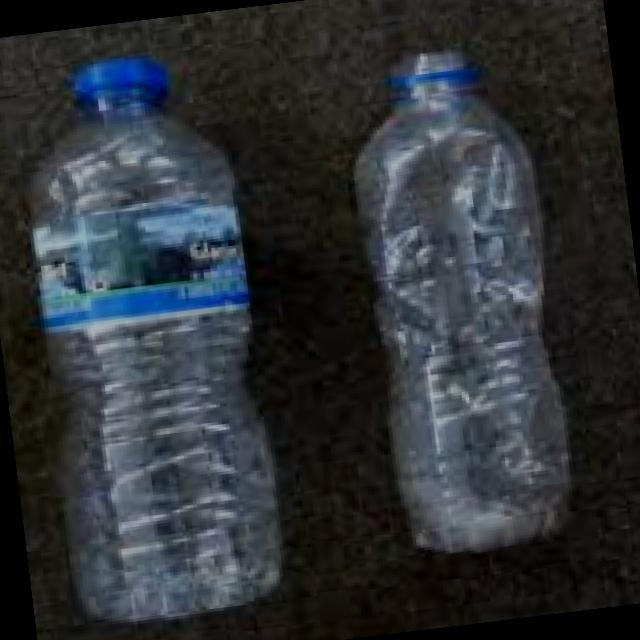Recycle: (9, 43, 291, 628), (336, 37, 582, 560)
